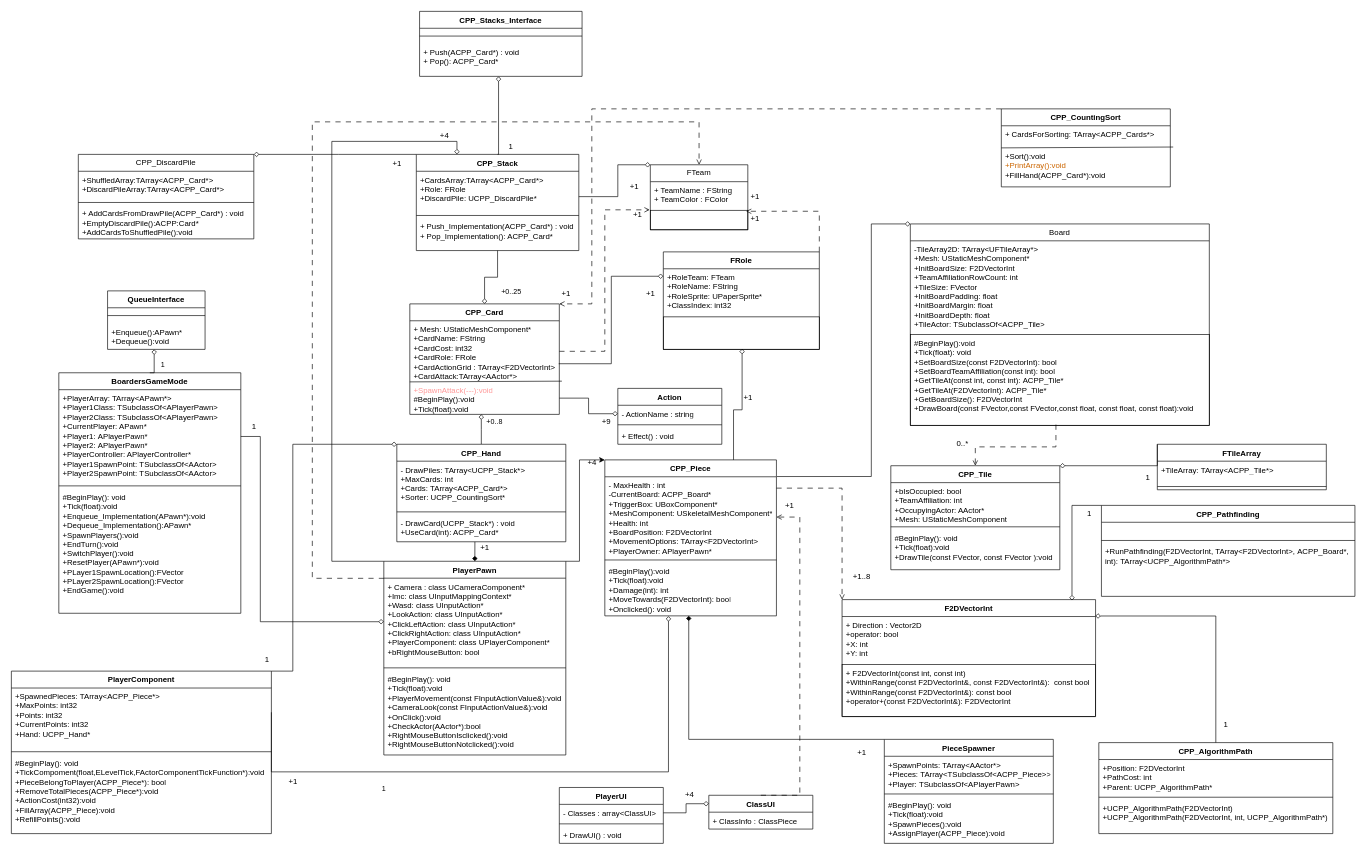
This 1366x857 diagram has some shape labels left out. Each missing label, with the centre of its shape:
+FRole(FTeam, FString,UPaperSprite*) +FRole(FTeam,FString): (741,332)
+FTeam(FString, FColor): (699,220)
